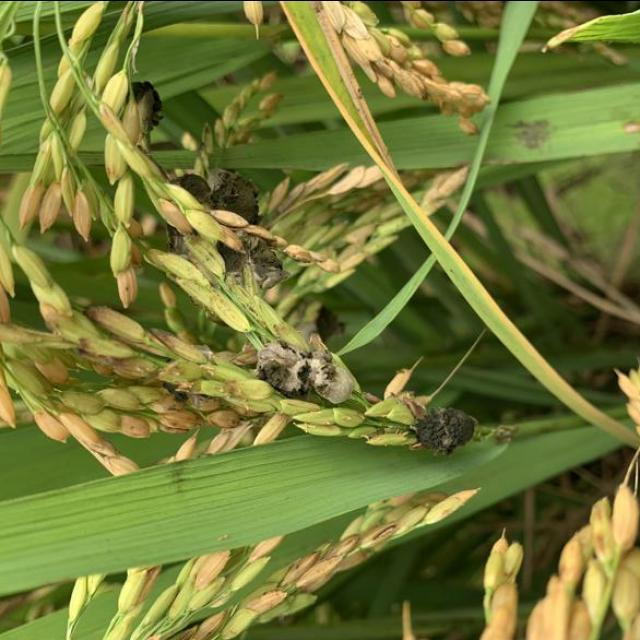Leaf_Scald: (163, 165, 280, 276), (254, 328, 354, 406), (410, 403, 478, 455), (114, 76, 166, 136)
